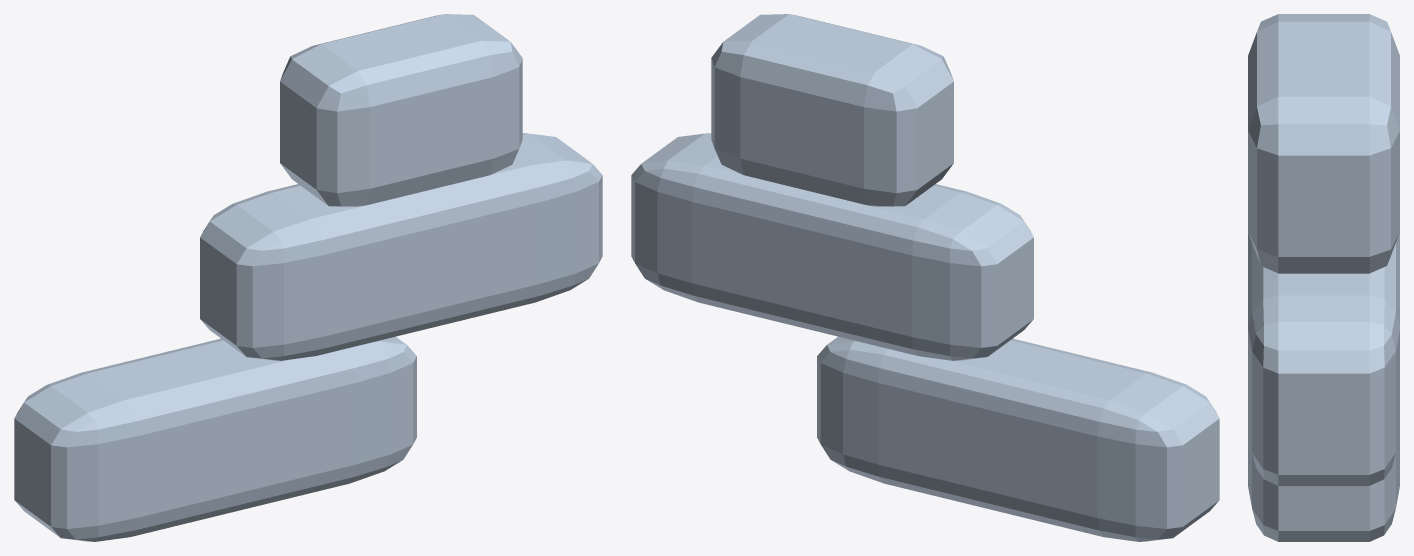
The model's file is wall.glb.
The picture shows the model from 3 angles, left to right: view 1: azimuth 30°, elevation 25°; view 2: azimuth 150°, elevation 25°; view 3: azimuth 270°, elevation 25°; orthographic projection. The views are drawn at different scales.
Visible parts, largest first — view 1: Cube, Cube.001, Cube.002; view 2: Cube, Cube.001, Cube.002; view 3: Cube.002, Cube.001, Cube.
Boxes of the visible parts, box(x1,y1,x2,y2) form: Cube: box(14, 336, 416, 541); Cube.001: box(200, 133, 602, 360); Cube.002: box(280, 14, 522, 206); Cube: box(817, 336, 1219, 541); Cube.001: box(631, 133, 1033, 360); Cube.002: box(711, 14, 953, 206); Cube.002: box(1248, 14, 1399, 273); Cube.001: box(1248, 232, 1399, 485); Cube: box(1248, 431, 1399, 541).
Bounding box in the file's own units: 1.48 × 1.05 × 0.285.
